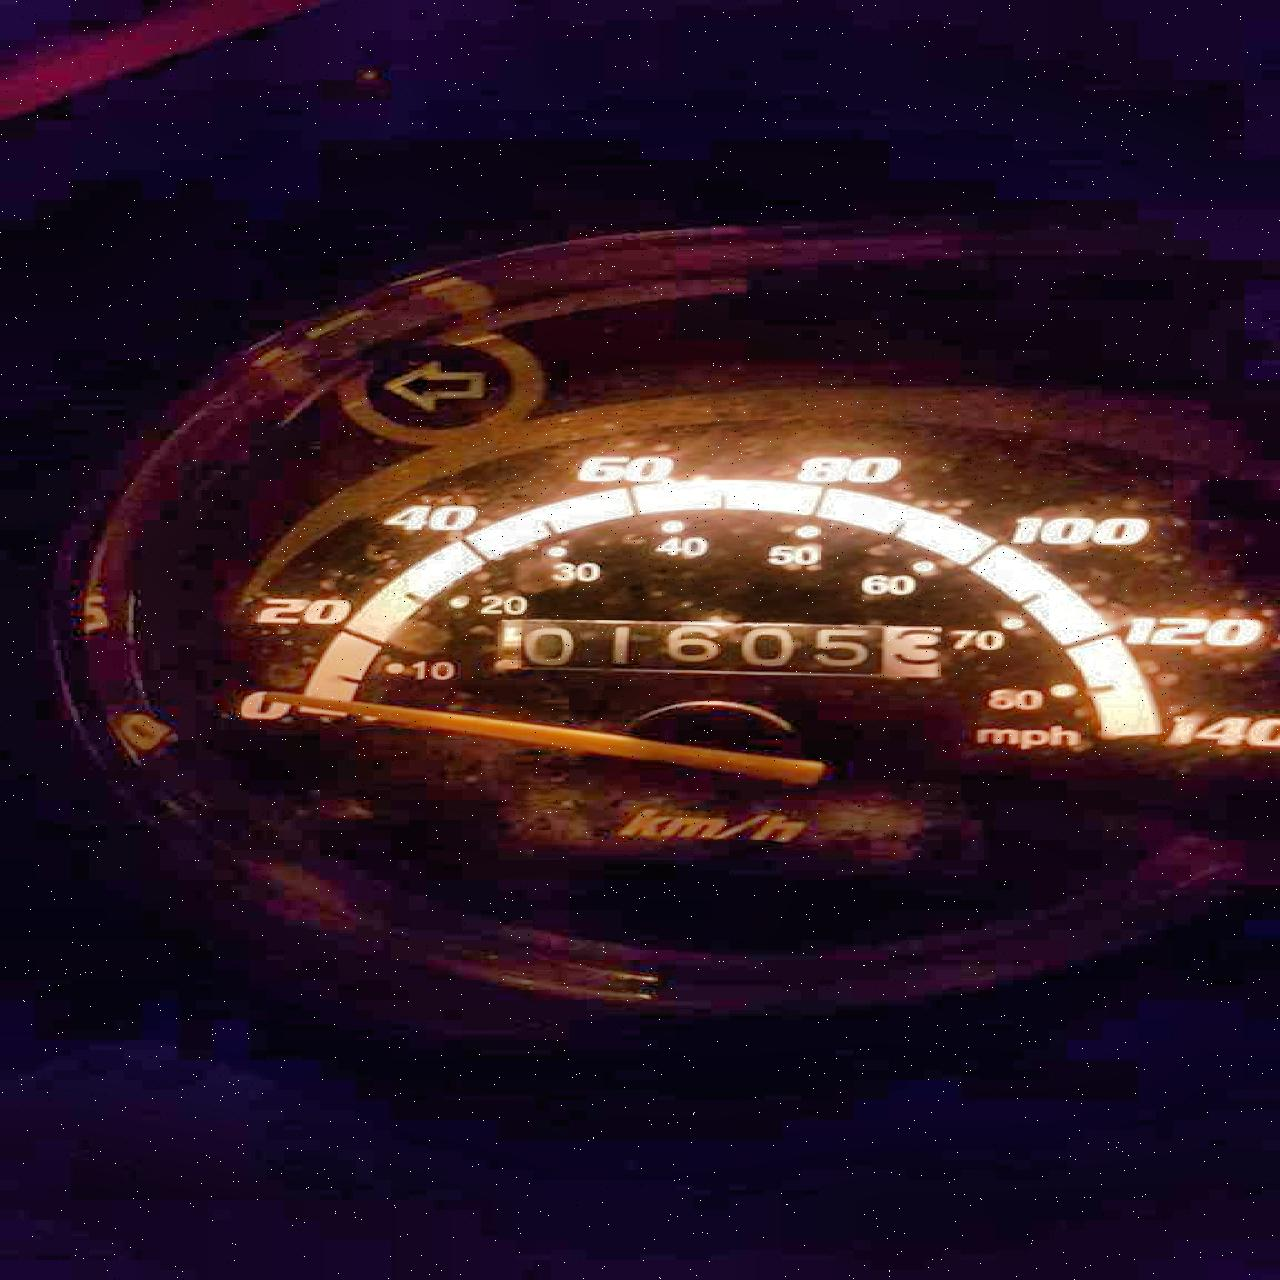0: (518, 622, 578, 668), (737, 622, 794, 669)
1: (605, 620, 635, 669)
3: (888, 626, 942, 669)
5: (811, 625, 869, 669)
6: (660, 622, 722, 666)
odometer: (486, 615, 949, 681)
